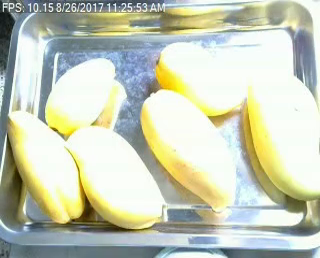Mango: (140, 90, 236, 208), (248, 68, 320, 201), (67, 128, 161, 229), (6, 110, 86, 223), (154, 41, 244, 116), (45, 58, 115, 133)
